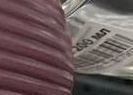1d: (70, 31, 133, 71)
